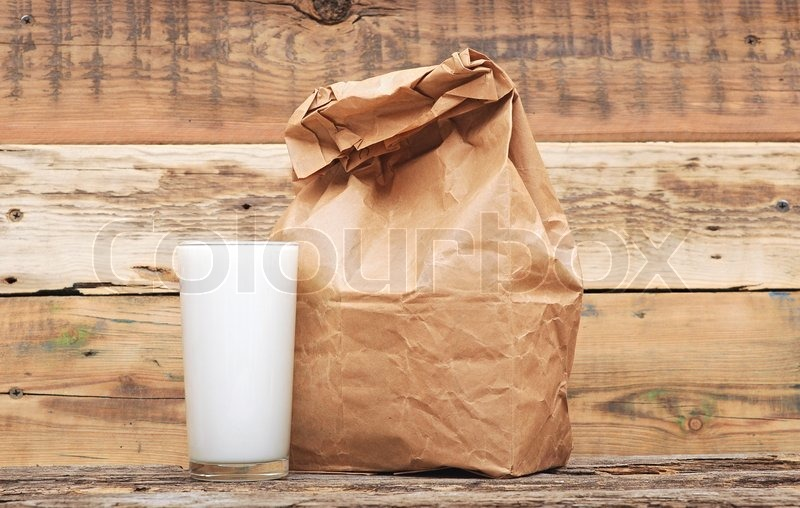glass of milk: (174, 241, 295, 475)
